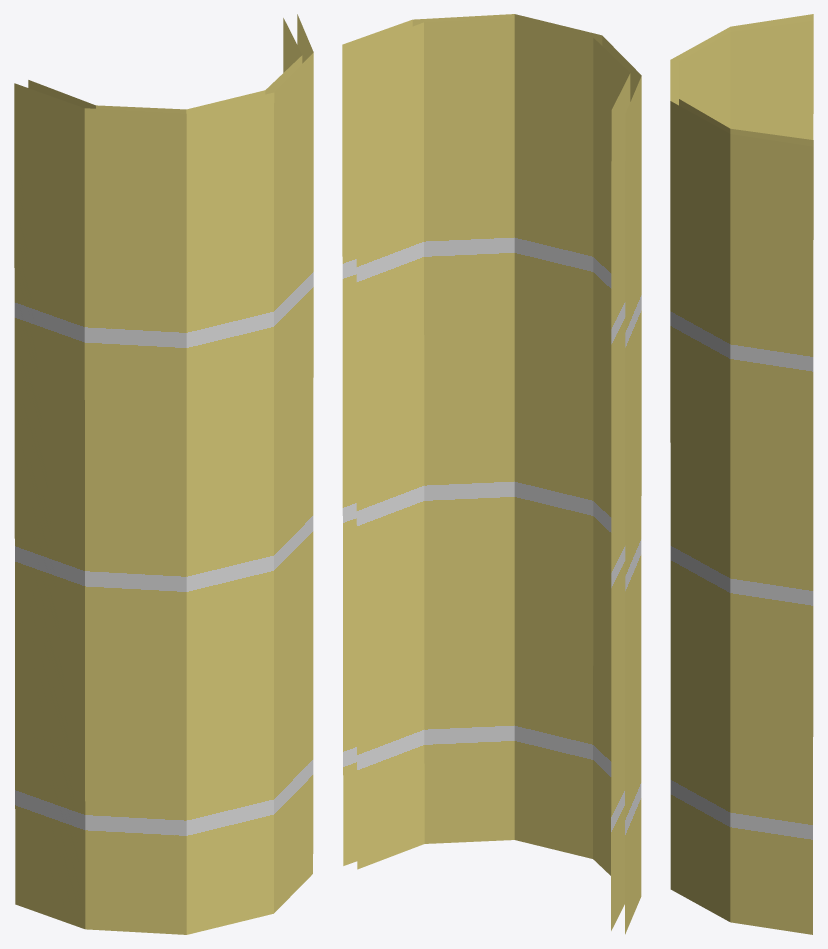
3 views of the same model, side by side, from view 1: azimuth 30°, elevation 25°; view 2: azimuth 150°, elevation 25°; view 3: azimuth 270°, elevation 25° (orthographic). The views are drawn at different scales.
Parts seen in each view (by area): view 1: ef_697; view 2: ef_697; view 3: ef_697.
Boxes of the visible parts, <box> form: ef_697: <box>14,14,313,934</box>; ef_697: <box>342,14,641,934</box>; ef_697: <box>670,14,813,934</box>.
Size of the model in its own units: 1.6 by 4.42 by 0.7273.
Materials: 1 (1 with a texture image).
